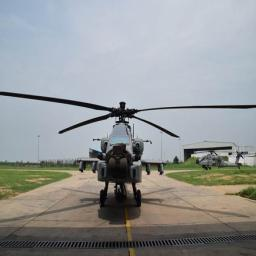helicopter: (31, 85, 203, 211)
